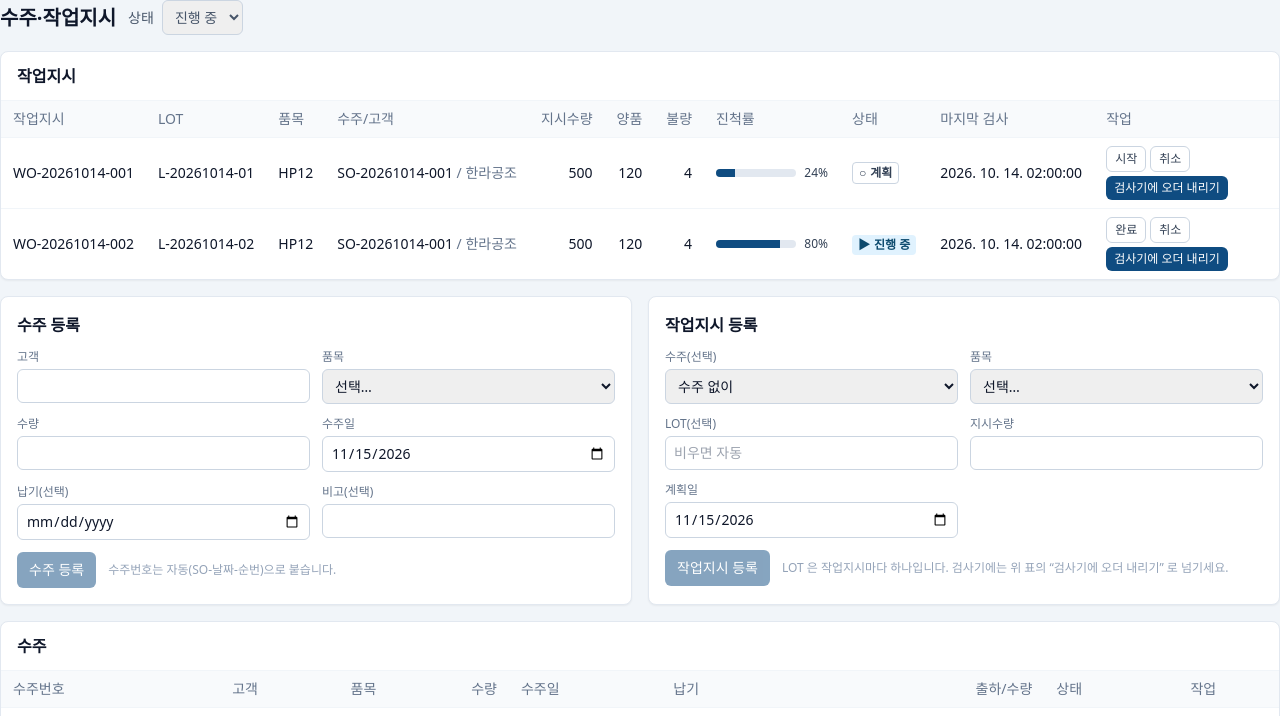
Test: MesOrdersPage — 검사기에 오더 내리기 › 검사기 오더가 실패하면 작업지시 상태도 바꾸지 않는다
What coordinates should you click on to do the following:
click the button with test id "wo-dispatch-1"
I would click on:
 (1167, 188)
Its box is [1106,176,1228,200].
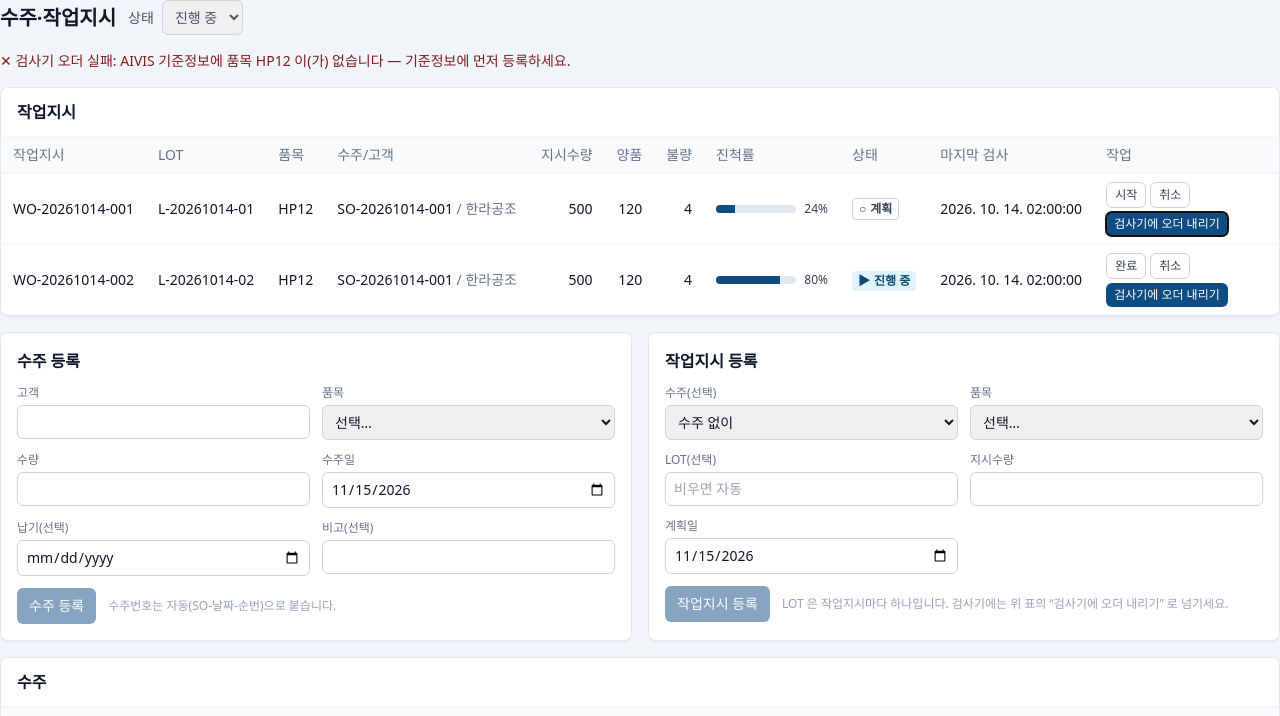
Expected: the message with test id "wo-msg" shows "기준정보에 품목 HP12", [15,51,570,70]
